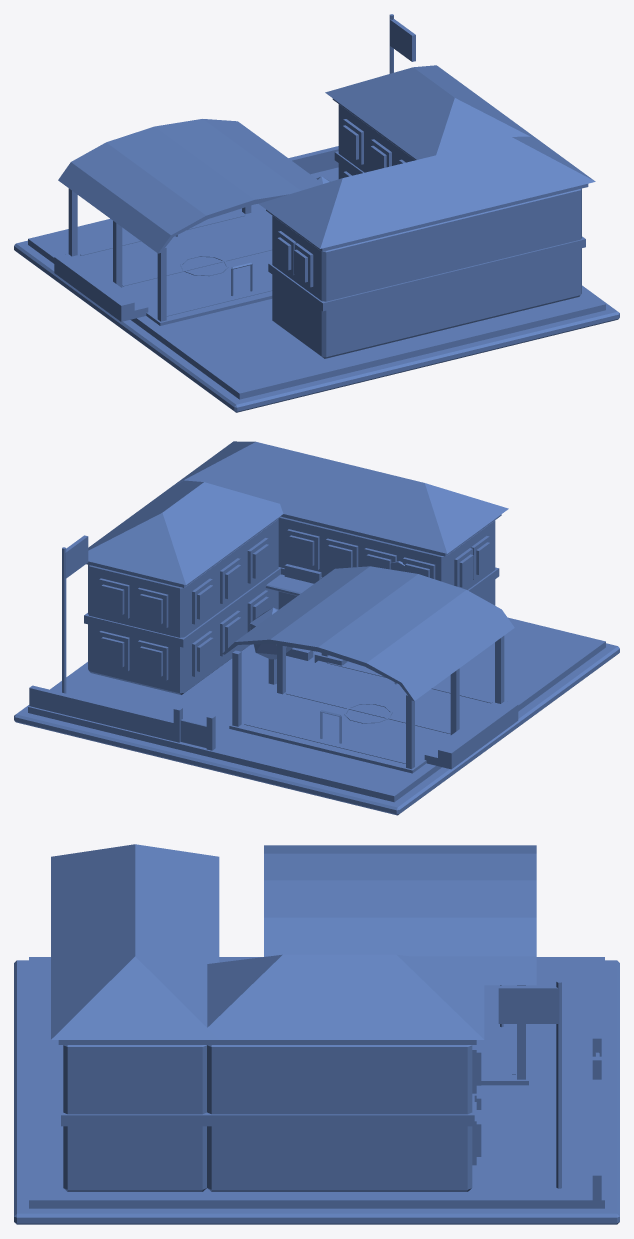
The picture shows the model from 3 angles, top to bottom: view 1: azimuth 30°, elevation 25°; view 2: azimuth 150°, elevation 25°; view 3: azimuth 270°, elevation 25°; orthographic projection. The views are drawn at different scales.
Visible parts, largest first — view 1: corpo; view 2: corpo; view 3: corpo.
Part boxes in pixels (bbox=[...]): corpo: bbox=[14, 14, 619, 412]; corpo: bbox=[14, 441, 619, 815]; corpo: bbox=[14, 844, 619, 1224].
Size of the model in its own units: 4.06 by 1.65 by 4.
